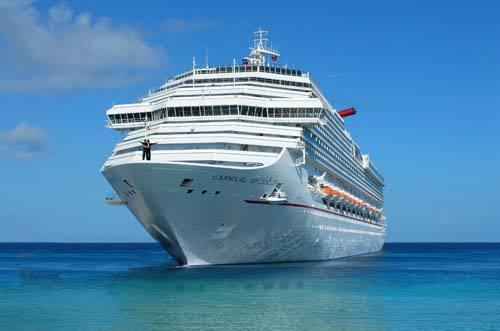youlun: (97, 21, 388, 267)
